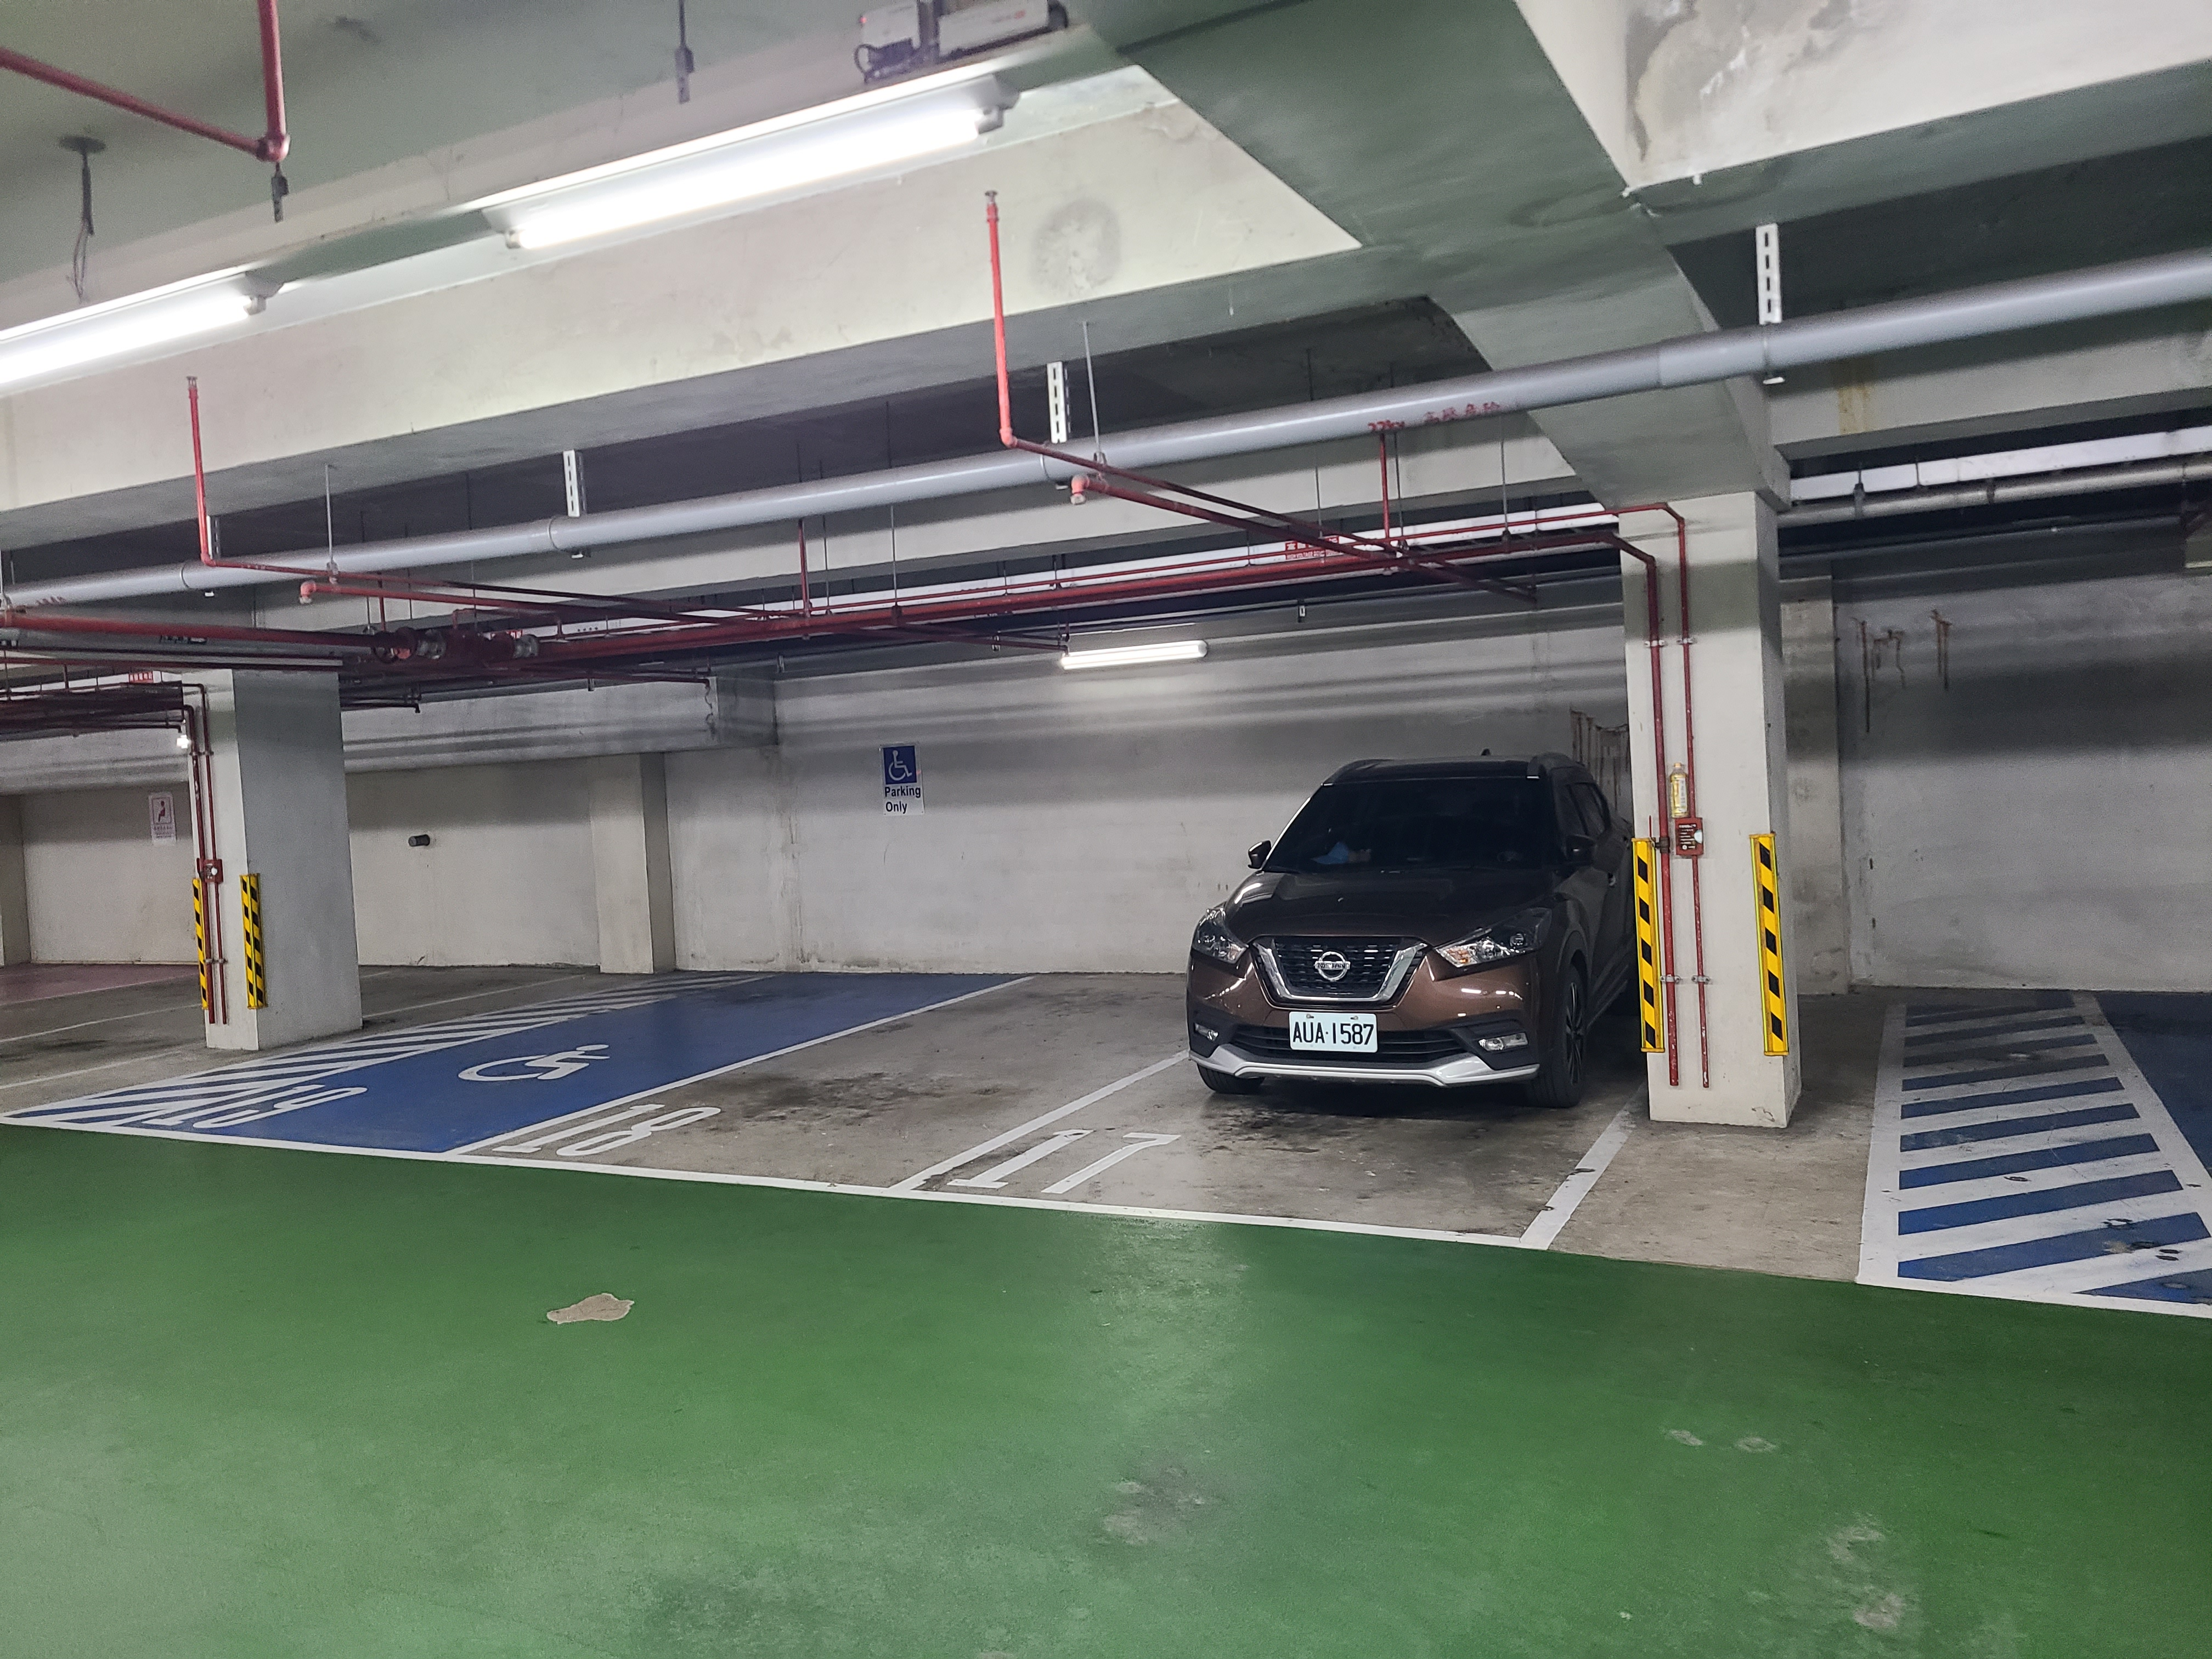car: (1172, 748, 1629, 1105)
